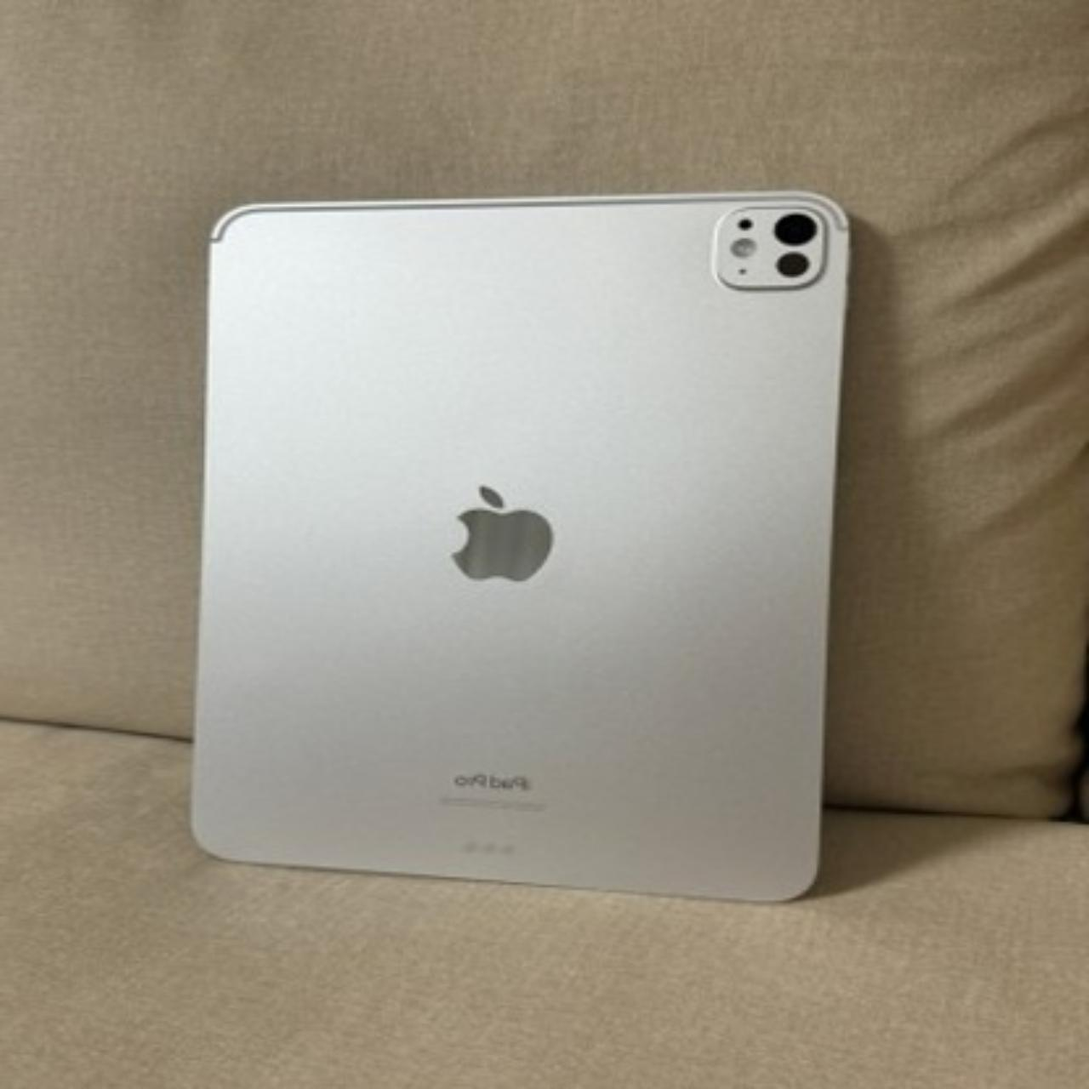Tablet_PC: (168, 171, 869, 908)
